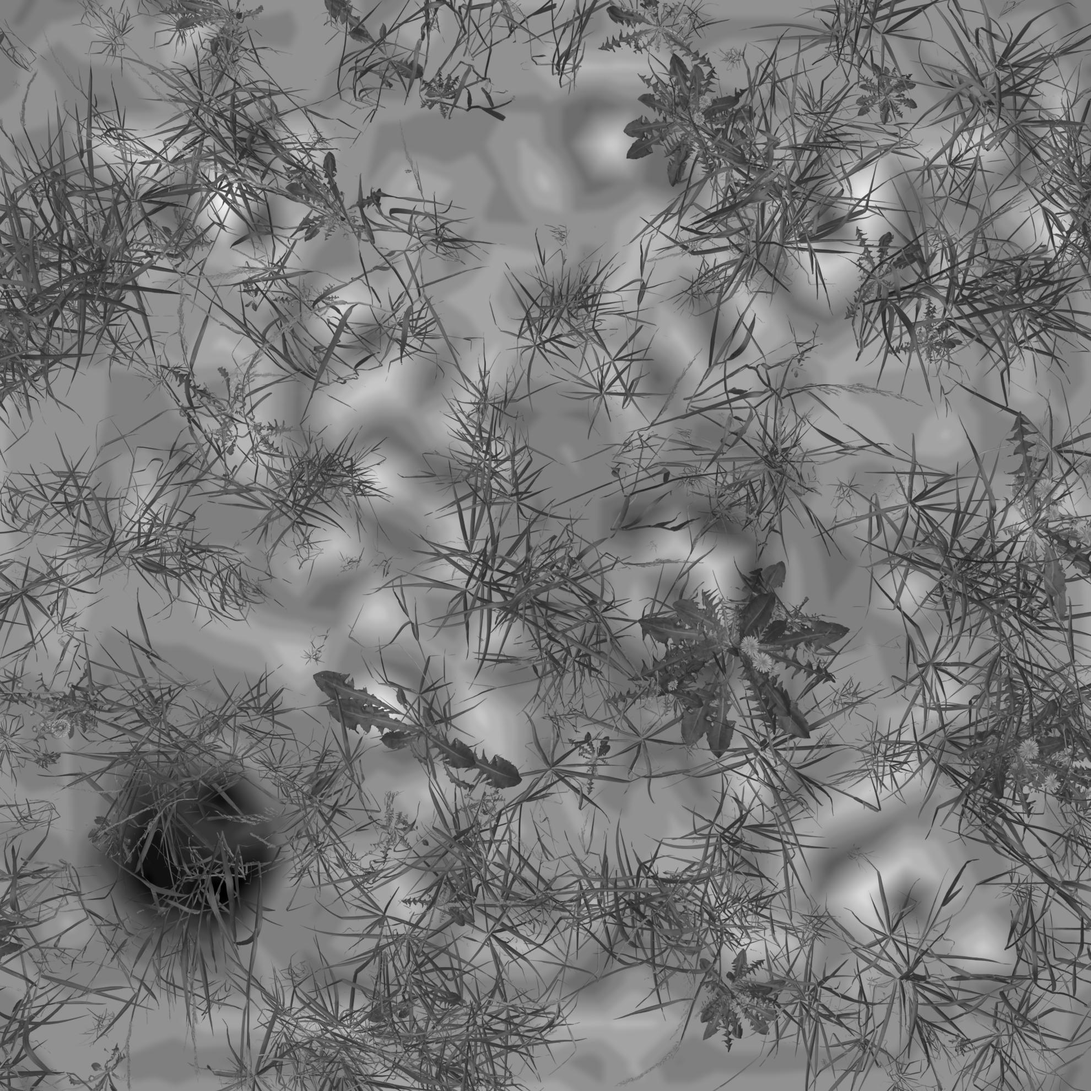landmine: (579, 490, 760, 665), (100, 758, 282, 929)
